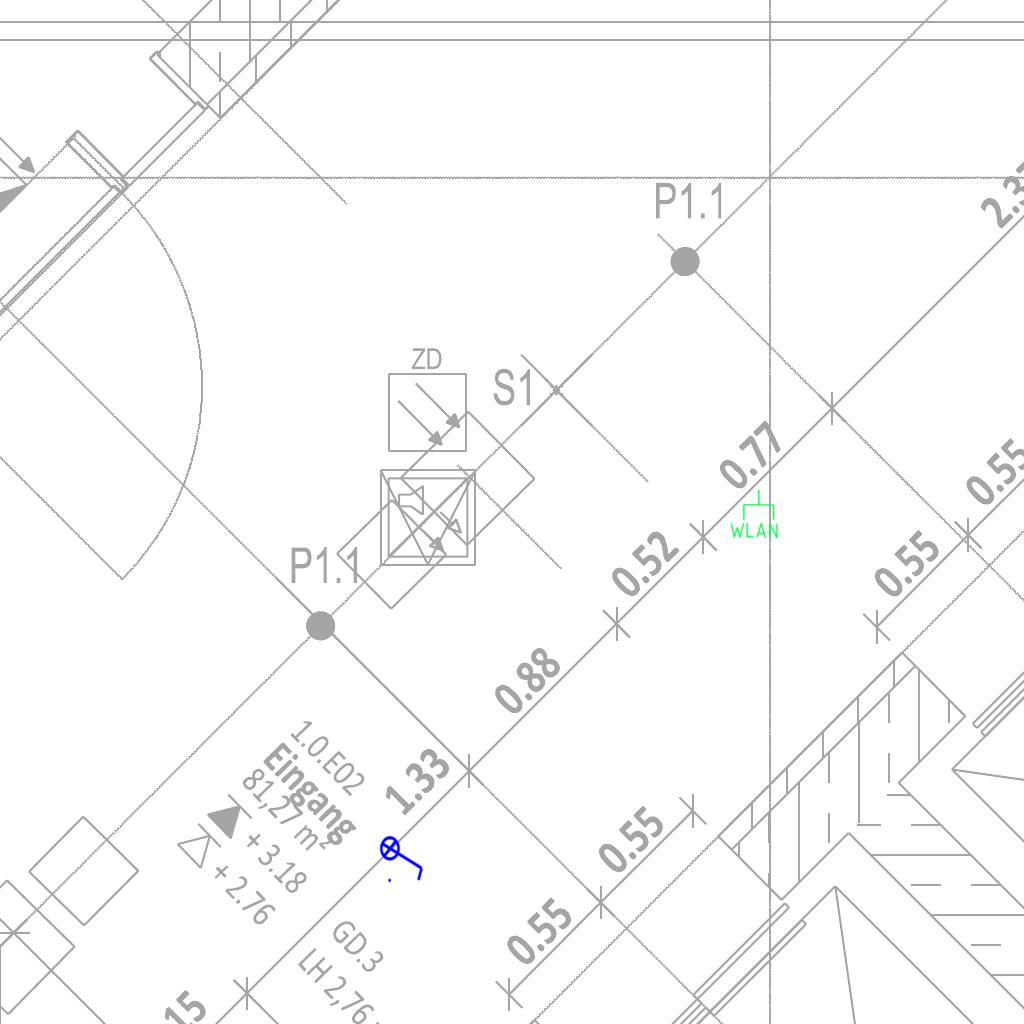Ausschalter_beleuchtet: (379, 829, 427, 885)
WLAN: (728, 488, 780, 540)
